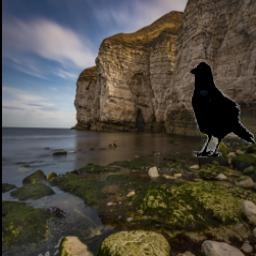Crow: (187, 61, 256, 159)
